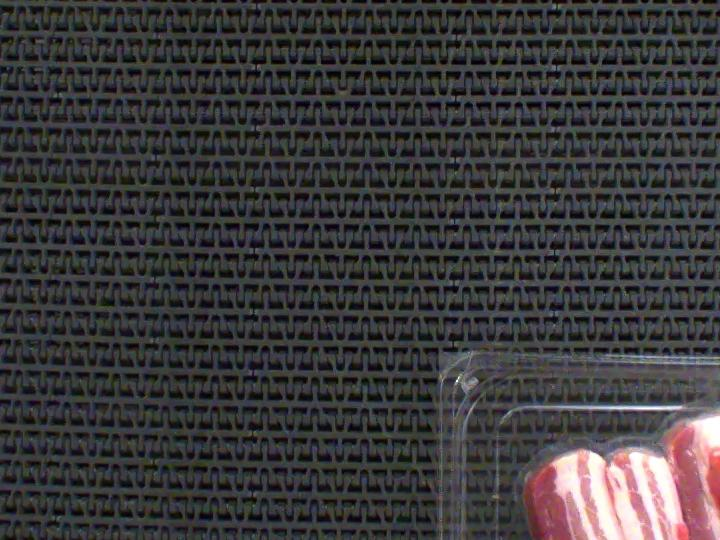unsealed: (487, 372, 720, 494)
